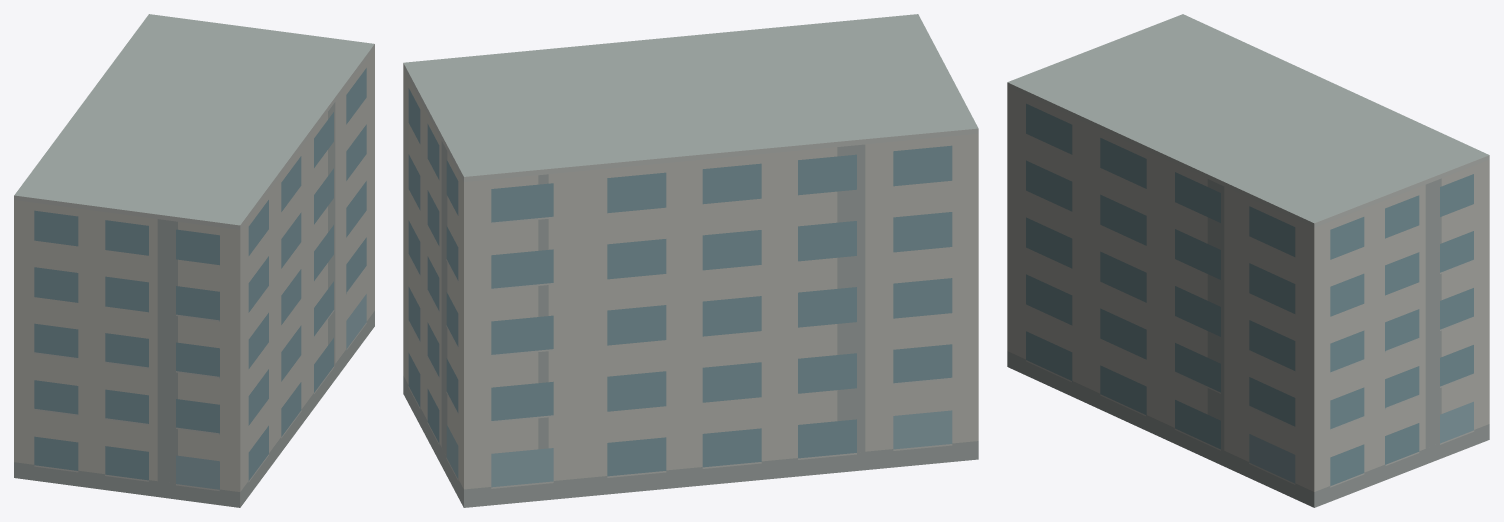
The model's file is residential-3911aa9d-c4be-481a-aee4-0d2e3375ade9.glb.
The picture shows the model from 3 angles, left to right: view 1: azimuth 30°, elevation 25°; view 2: azimuth 150°, elevation 25°; view 3: azimuth 270°, elevation 25°; orthographic projection. The views are drawn at different scales.
Parts seen in each view (by area): view 1: residential-3911aa9d-c4be-481a-aee4-0d2e3375ade9.tmp; view 2: residential-3911aa9d-c4be-481a-aee4-0d2e3375ade9.tmp; view 3: residential-3911aa9d-c4be-481a-aee4-0d2e3375ade9.tmp.
Part boxes in pixels (box(x1,y1,x2,y2)): residential-3911aa9d-c4be-481a-aee4-0d2e3375ade9.tmp: box(14, 14, 374, 507); residential-3911aa9d-c4be-481a-aee4-0d2e3375ade9.tmp: box(403, 14, 978, 507); residential-3911aa9d-c4be-481a-aee4-0d2e3375ade9.tmp: box(1007, 14, 1489, 507).
Bounding box in the file's own units: 24.07 × 15.25 × 23.44.
